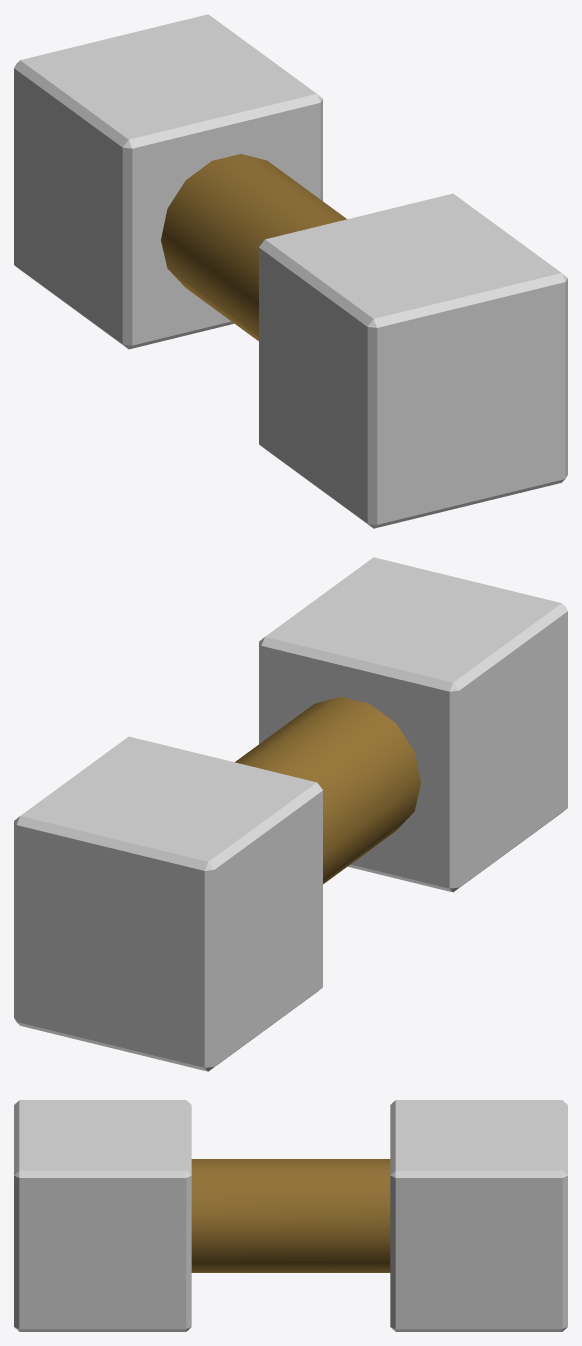
Rendered from R4C_STRUT_STANDARD.fbx.
3 views of the same model, one above another, from view 1: azimuth 30°, elevation 25°; view 2: azimuth 150°, elevation 25°; view 3: azimuth 270°, elevation 25° (orthographic). The views are drawn at different scales.
Visible parts, largest first — view 1: R4C_STRUT_STANDARD; view 2: R4C_STRUT_STANDARD; view 3: R4C_STRUT_STANDARD.
Part boxes in pixels (x1=…): R4C_STRUT_STANDARD: x1=14, y1=14, x2=567, y2=528; R4C_STRUT_STANDARD: x1=14, y1=557, x2=567, y2=1071; R4C_STRUT_STANDARD: x1=14, y1=1100, x2=567, y2=1331.
Bounding box in the file's own units: 0.52 × 0.52 × 1.62.
